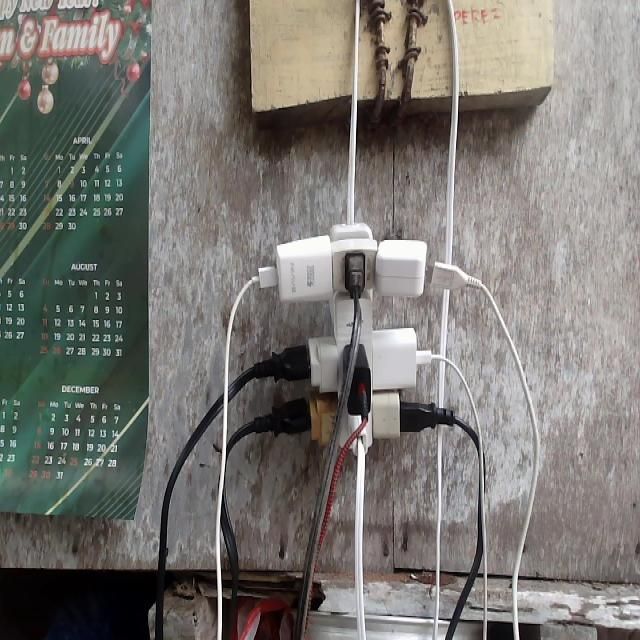-: (243, 218, 482, 458)
